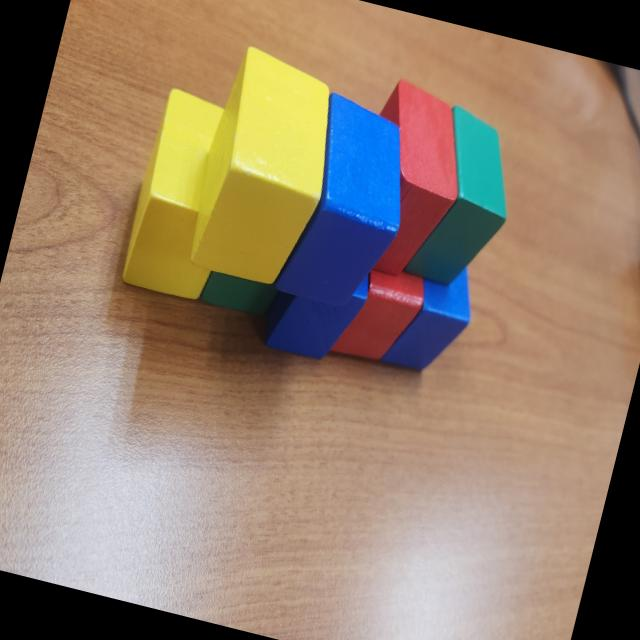blue: (273, 88, 427, 315), (378, 248, 482, 382), (261, 247, 373, 369)
green: (400, 101, 530, 296), (197, 268, 280, 322)
red: (341, 74, 482, 286), (328, 259, 428, 370)
yellow: (180, 41, 352, 292), (116, 85, 252, 304)
